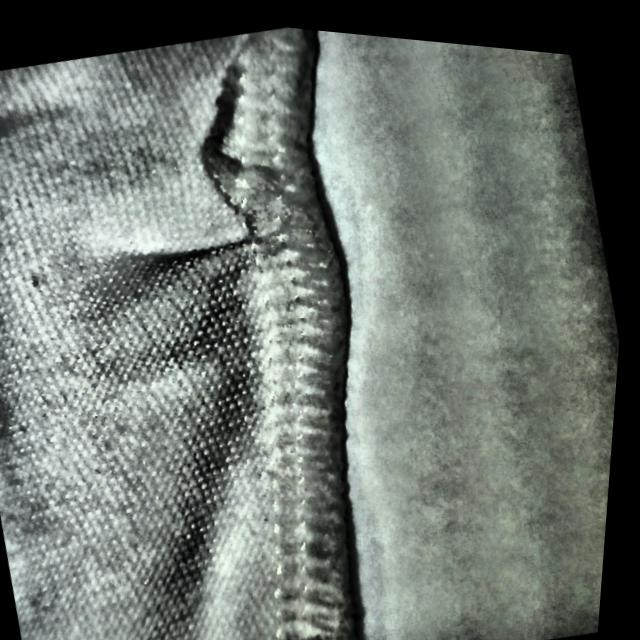seam: (98, 32, 365, 337)
